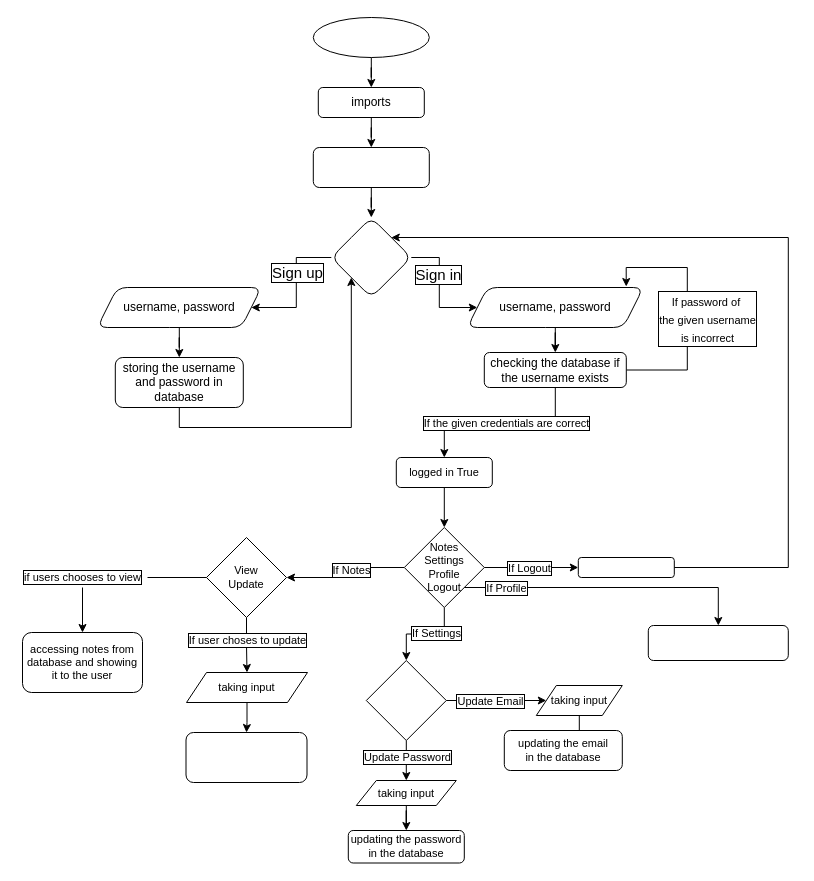
Image size: 814x881. Some labels were removed from this diagram. The shapes that lost their labels are listed below. From the top down, each one's box as (x1, y1, x2, y2) in pixels, then its label:
(312, 16, 429, 58): Start
(312, 146, 429, 188): Creating Database and tables
(330, 216, 411, 298): Sign up Sign in
(577, 556, 674, 578): logged in false
(647, 624, 788, 660): Shows User information
(365, 660, 446, 740): Update Password or Email
(185, 732, 307, 782): Updating the existing record in the database with the new one
